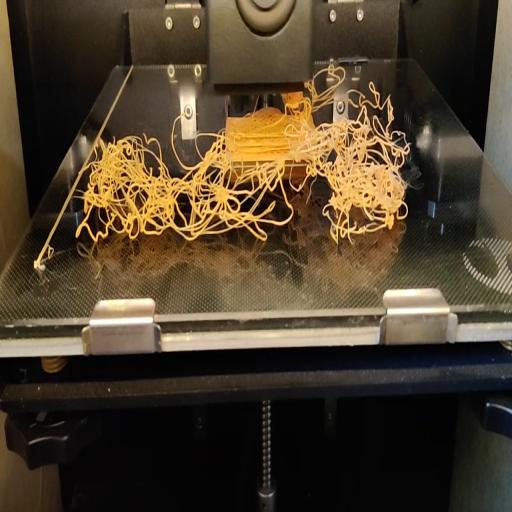spaghetti: (72, 93, 410, 248), (308, 60, 348, 90), (368, 78, 375, 86)
